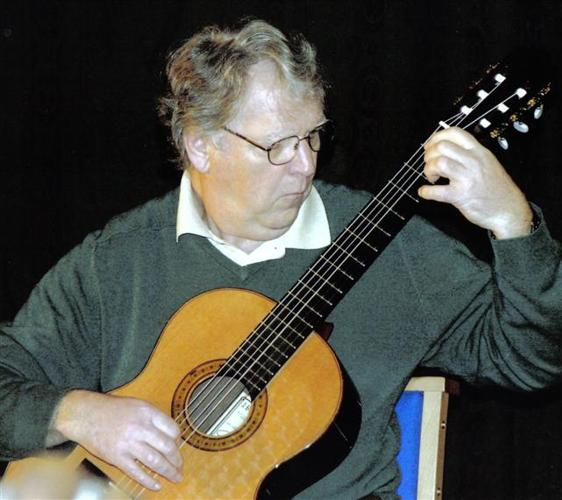person: (5, 20, 560, 500)
